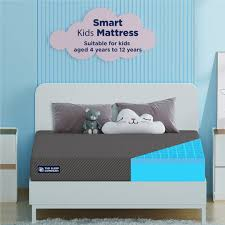bed-matress: (30, 127, 209, 182)
